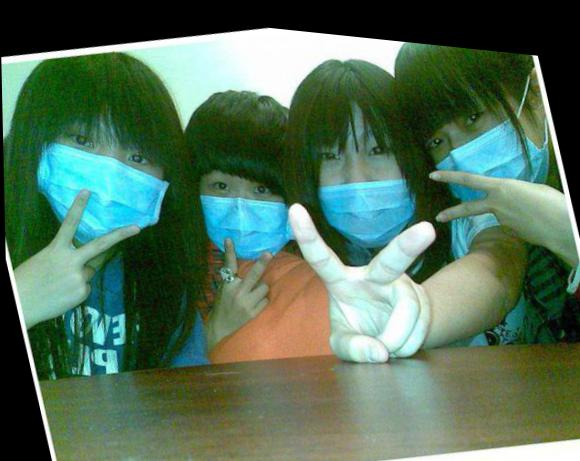OK: (30, 101, 180, 261), (423, 63, 563, 216), (189, 146, 300, 269)
WRONG: (301, 99, 428, 253)
